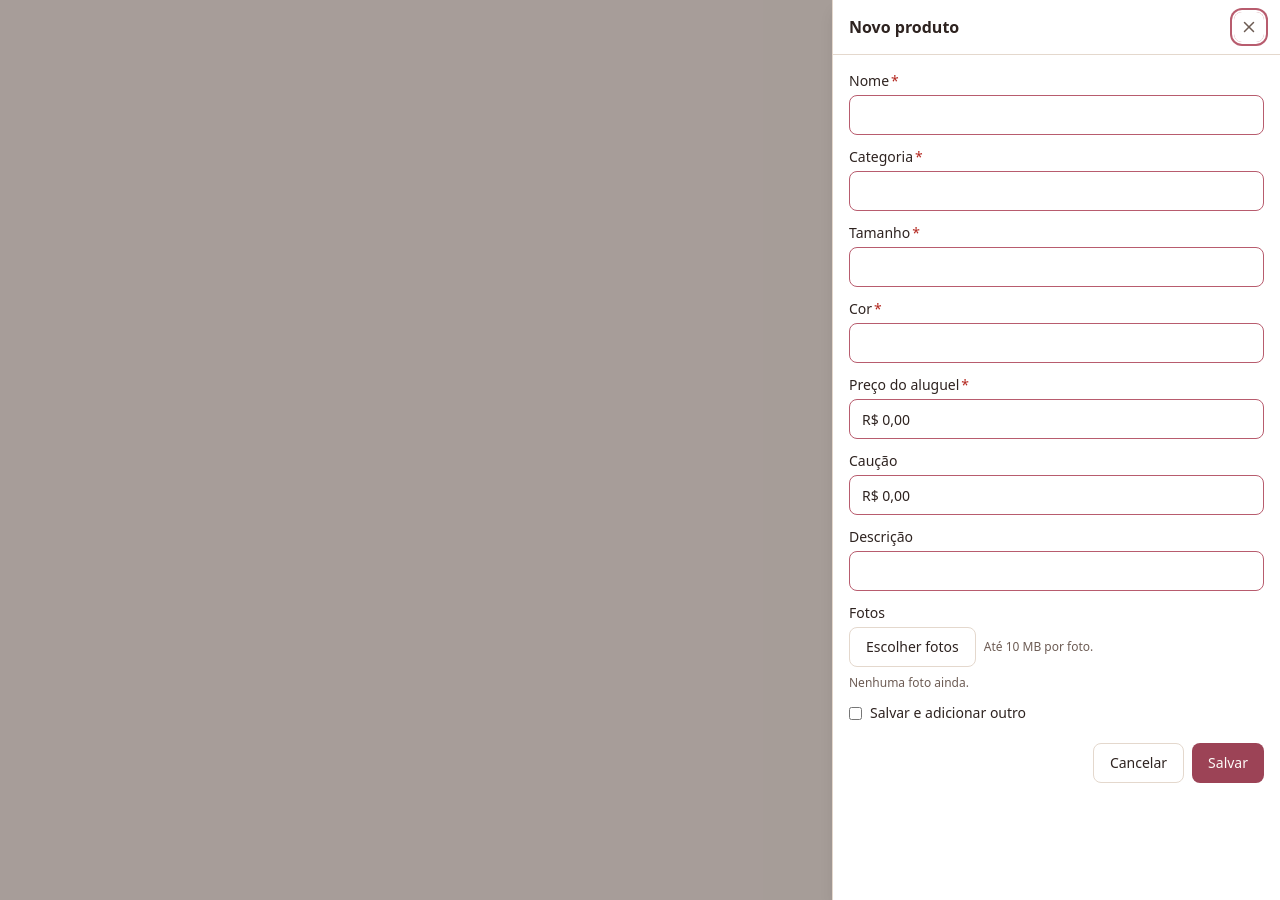
Test: ProductDrawer › prompts instead of closing when the header X is clicked with unsaved input
Type "Vestido Verde" into the field labelled "Nome" at (1056, 115), box [849,95,1264,135]
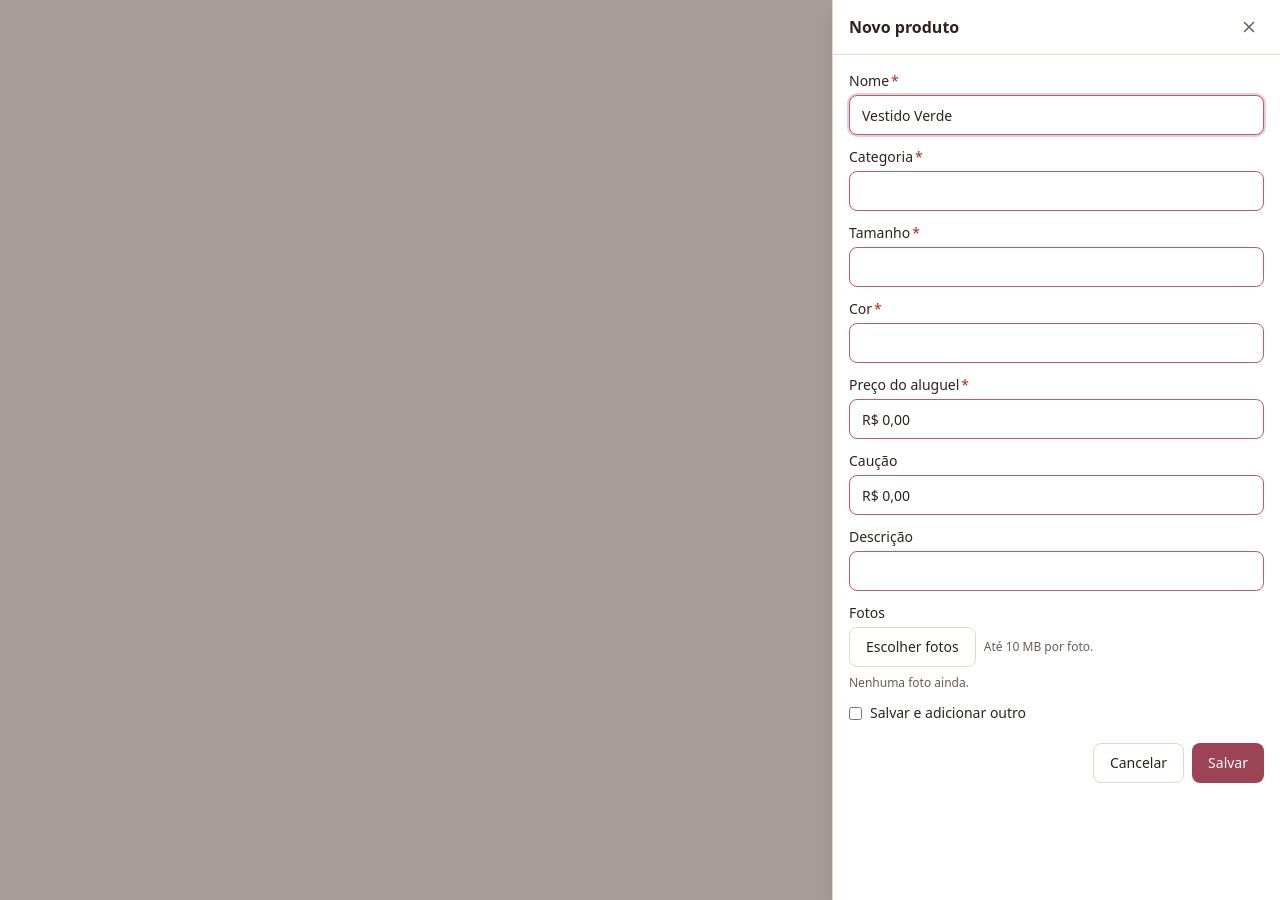
Click the button named "Fechar" at (1249, 27), box [1234,12,1264,42]
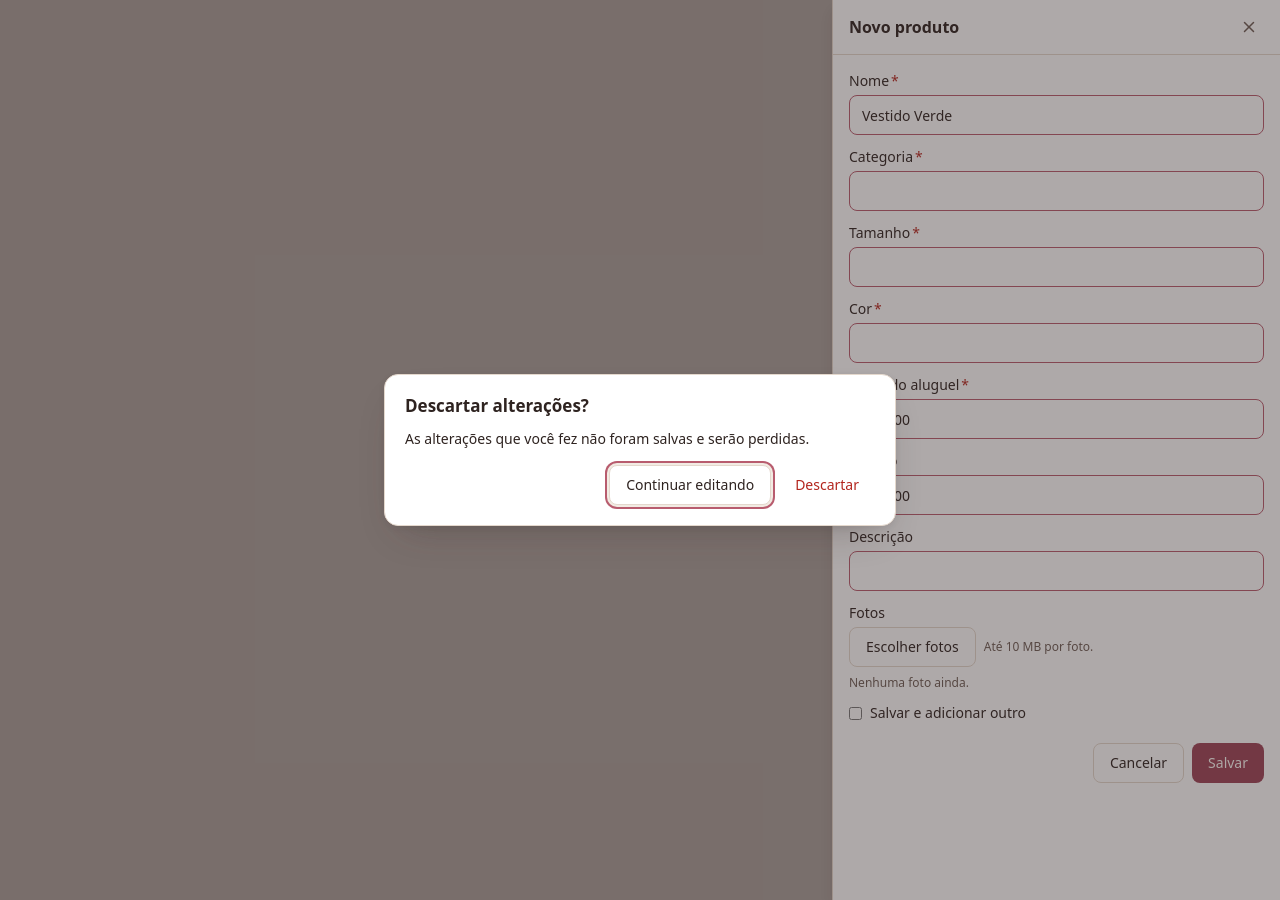
Check: the heading "Descartar alterações?" is shown, box [405,394,589,417]
